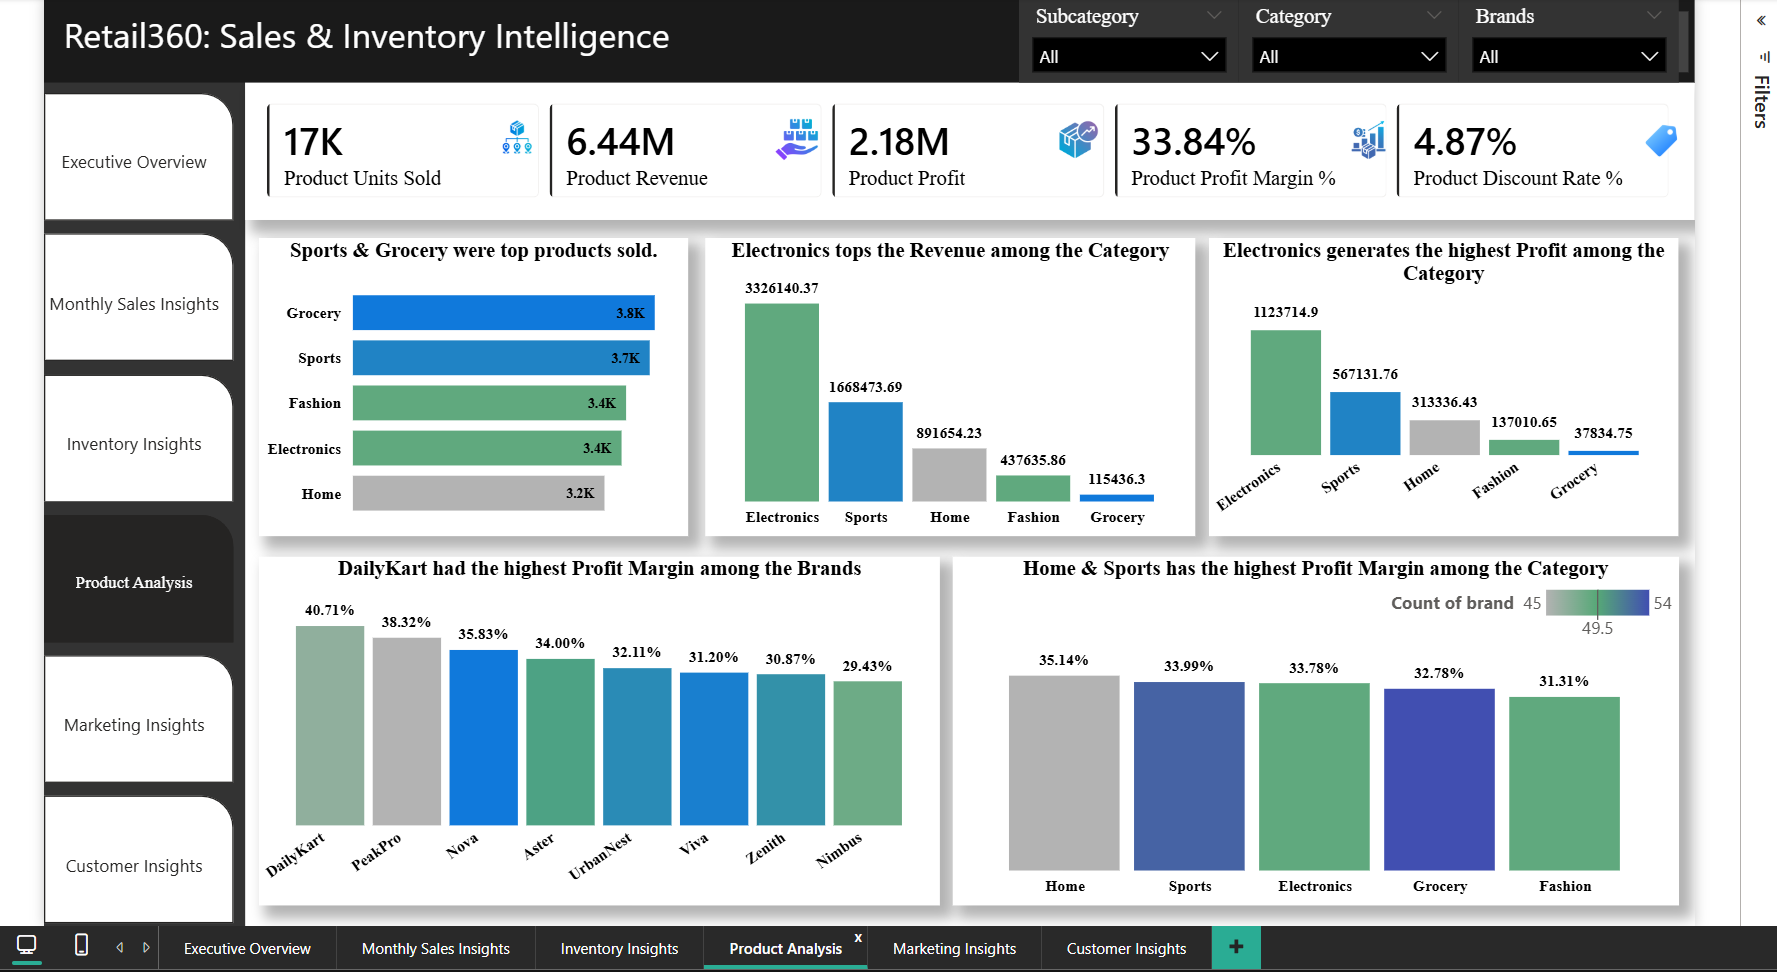

Layout of this report page (visuals, bound fields, positions):
{"tool":"powerbi","page":{"name":"Product Analysis","canvas":[1280,720],"ordinal":3},"visuals":[{"type":"textbox","box":[0,65,156.2,655],"z":0},{"type":"cardVisual","fields":{"Data":["Dax measure.Product Units Sold","Dax measure.Product Revenue","Dax measure.Product Profit","Dax measure.Product Profit Margin %","Dax measure.Product Discount Rate %"]},"box":[156.2,65,1123.8,107.5],"z":1000},{"type":"textbox","box":[0,0,1280.3,65.3],"z":2000},{"type":"slicer","fields":{"Values":["vw_product_performance.category"]},"box":[926.9,0,170.5,65.4],"z":3000},{"type":"slicer","fields":{"Values":["vw_product_performance.brand"]},"box":[1097.4,0,170.5,65.4],"z":4000},{"type":"clusteredBarChart","title":"Sports & Grocery were top products sold.","fields":{"Y":["Dax measure.Product Units Sold"],"Category":["vw_product_performance.category"]},"box":[167.2,185.7,333.1,231.5],"z":5000},{"type":"clusteredColumnChart","title":"Electronics tops the Revenue among the Category","fields":{"Y":["Dax measure.Product Revenue"],"Category":["vw_product_performance.category"]},"box":[512.6,185.7,380.1,231.5],"z":6000},{"type":"lineClusteredColumnComboChart","title":"Electronics generates the highest Profit among the Category","fields":{"Category":["vw_product_performance.category"],"Y":["Dax measure.Product Profit"]},"box":[903.9,185.7,364,231.5],"z":7000},{"type":"clusteredColumnChart","title":"DailyKart had the highest Profit Margin among the Brands","fields":{"Category":["vw_product_performance.brand"],"Y":["Dax measure.Product Profit Margin %"]},"box":[166.7,433.3,528.2,270.5],"z":8000},{"type":"slicer","fields":{"Values":["vw_product_performance.subcategory"]},"box":[756.4,0,170.5,65.4],"z":9000},{"type":"clusteredColumnChart","title":"Home & Sports has the highest Profit Margin among the Category","fields":{"Y":["Dax measure.Product Profit Margin %"],"Category":["vw_product_performance.category"]},"box":[705.1,433.3,562.8,270.5],"z":10000},{"type":"image","box":[351.2,95.3,32.6,25.6],"z":11000},{"type":"image","box":[773.3,93,57,33.7],"z":12000},{"type":"image","box":[559.3,93,48.8,33.7],"z":13000},{"type":"image","box":[1011.6,95.3,30.2,30.2],"z":14000},{"type":"image","box":[1239.5,97.7,29.1,25.6],"z":15000},{"type":"pageNavigator","box":[0,73.8,147.6,646.4],"z":15001}]}

Visuals, with their boxes on the page's 1280x720 design canvas (x1, y1, x2, y2). These are canvas units, not pixel positions in the 1777x972 screenshot, which may show the page scaled, cropped or inside an application window:
textbox: 0 65 156 720
cardVisual - Dax measure.Product Units Sold x Dax measure.Product Revenue: 156 65 1280 172
textbox: 0 0 1280 65
slicer - vw_product_performance.category: 927 0 1097 65
slicer - vw_product_performance.brand: 1097 0 1268 65
"Sports & Grocery were top products sold." clusteredBarChart: 167 186 500 417
"Electronics tops the Revenue among the Category" clusteredColumnChart: 513 186 893 417
"Electronics generates the highest Profit among the Category" lineClusteredColumnComboChart: 904 186 1268 417
"DailyKart had the highest Profit Margin among the Brands" clusteredColumnChart: 167 433 695 704
slicer - vw_product_performance.subcategory: 756 0 927 65
"Home & Sports has the highest Profit Margin among the Category" clusteredColumnChart: 705 433 1268 704
image: 351 95 384 121
image: 773 93 830 127
image: 559 93 608 127
image: 1012 95 1042 126
image: 1240 98 1269 123
pageNavigator: 0 74 148 720
